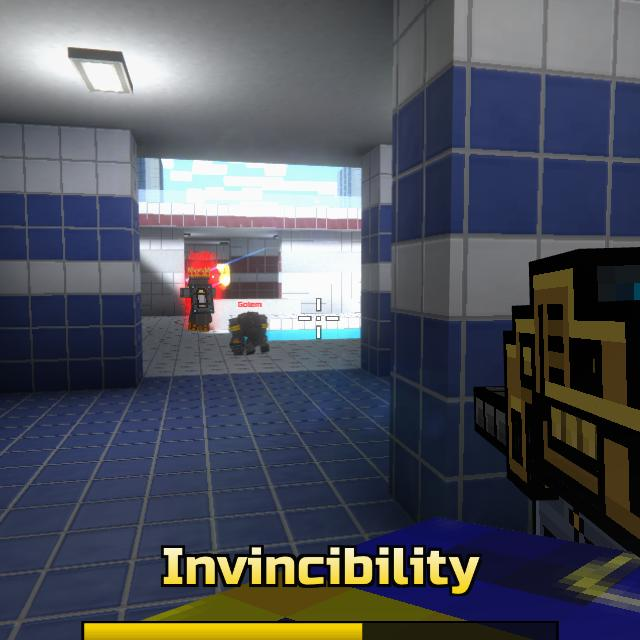Enemy: (184, 268, 219, 331)
